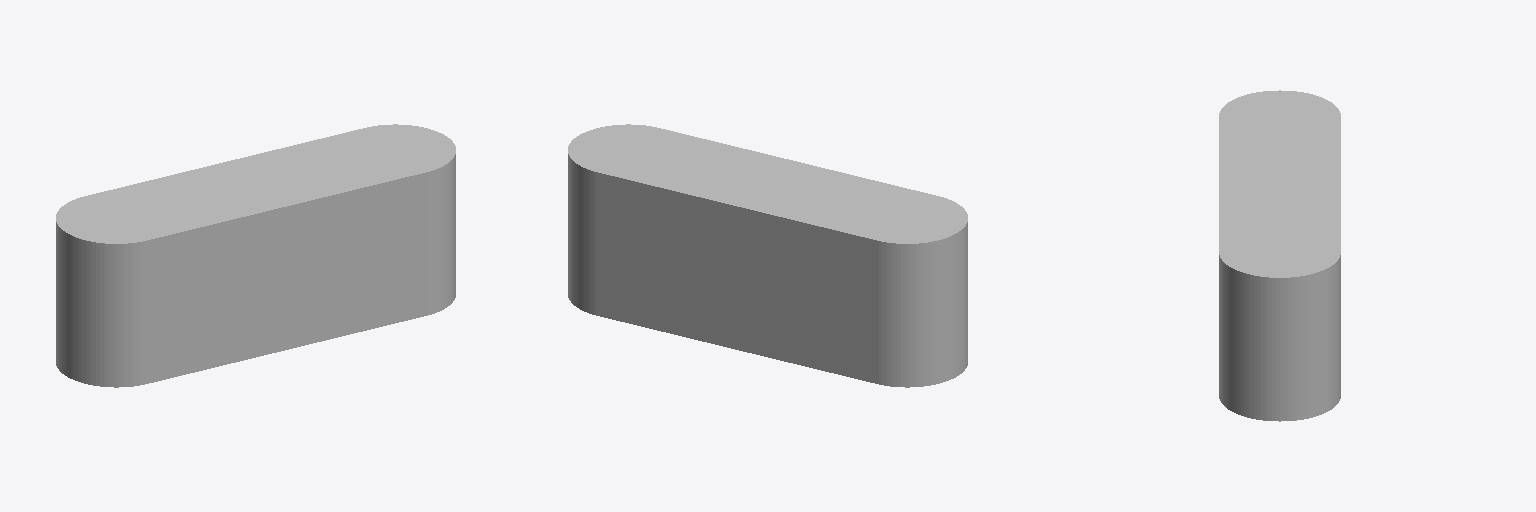
File: zoom-minus.obj
3 renders of one model, left to right at view 1: azimuth 30°, elevation 25°; view 2: azimuth 150°, elevation 25°; view 3: azimuth 270°, elevation 25°, orthographic.
Visible parts, largest first — view 1: minus_CUCurve.000; view 2: minus_CUCurve.000; view 3: minus_CUCurve.000.
Boxes of the visible parts, x1,y1,x2,y2 form: minus_CUCurve.000: [56, 124, 455, 387]; minus_CUCurve.000: [568, 124, 967, 387]; minus_CUCurve.000: [1219, 90, 1340, 421].
Size of the model in its own units: 0.14 by 0.05 by 0.0385.